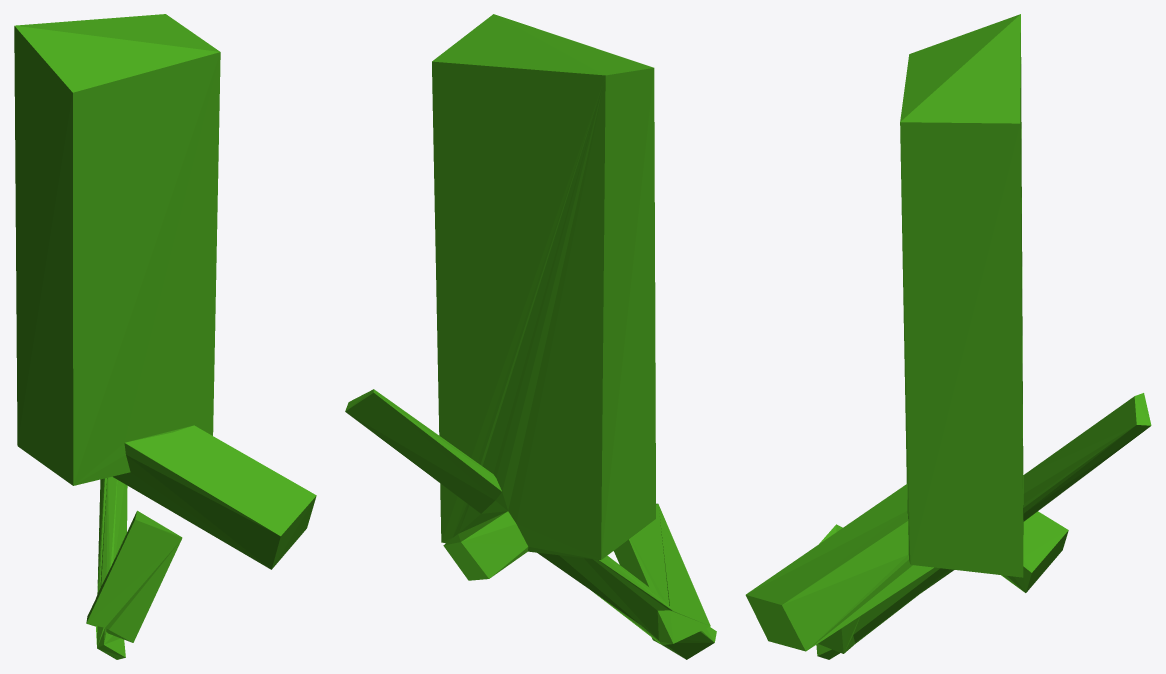
3 renders of one model, left to right at view 1: azimuth 30°, elevation 25°; view 2: azimuth 150°, elevation 25°; view 3: azimuth 270°, elevation 25°, orthographic. The views are drawn at different scales.
Parts seen in each view (by area): view 1: 231_Cube.950; view 2: 231_Cube.950; view 3: 231_Cube.950.
Part boxes in pixels (bbox=[...]): 231_Cube.950: bbox=[14, 14, 316, 659]; 231_Cube.950: bbox=[345, 14, 716, 659]; 231_Cube.950: bbox=[745, 14, 1151, 659].
Size of the model in its own units: 6.15 by 16.45 by 9.5.
